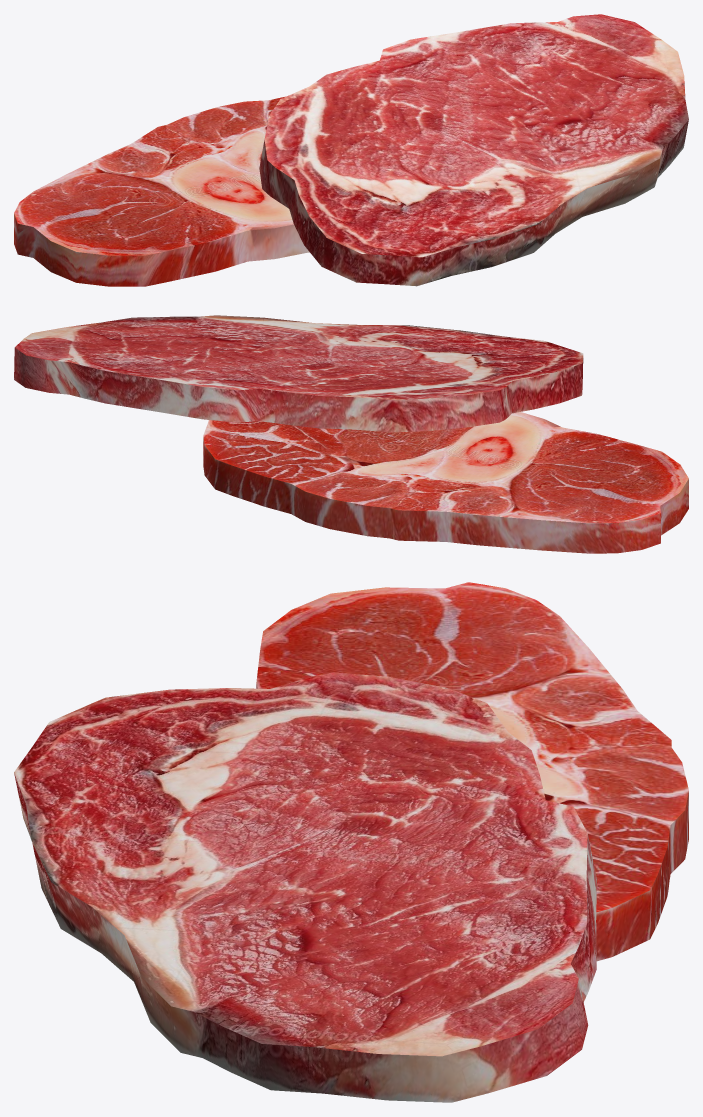
The model's file is Beef Meat.FBX.
3 renders of one model, top to bottom at view 1: azimuth 30°, elevation 25°; view 2: azimuth 150°, elevation 25°; view 3: azimuth 270°, elevation 25°, orthographic. The views are drawn at different scales.
Parts seen in each view (by area): view 1: Beef02, Beef01; view 2: Beef02, Beef01; view 3: Beef02, Beef01.
Part boxes in pixels (box(x1,y1,x2,y2)): Beef02: box(259, 14, 688, 286); Beef01: box(14, 96, 309, 286); Beef02: box(14, 315, 583, 432); Beef01: box(203, 412, 688, 553); Beef02: box(14, 672, 596, 1102); Beef01: box(256, 582, 688, 961).
Size of the model in its own units: 92.51 by 11.61 by 52.34.
